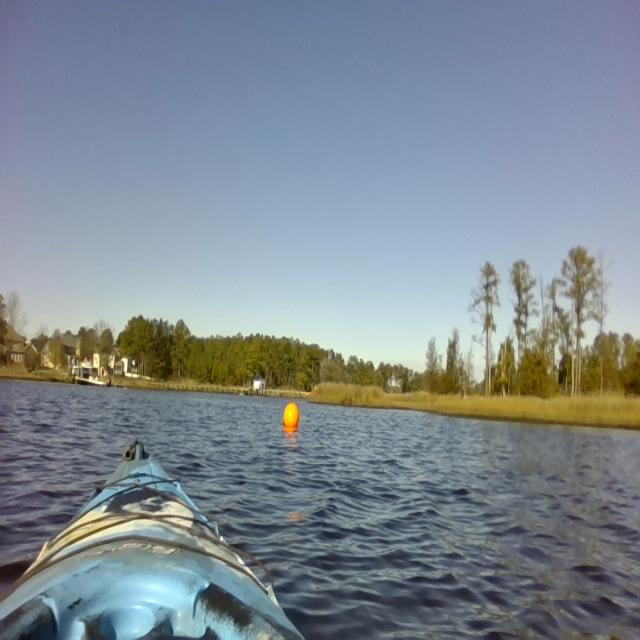Buoy: (282, 396, 301, 438)
